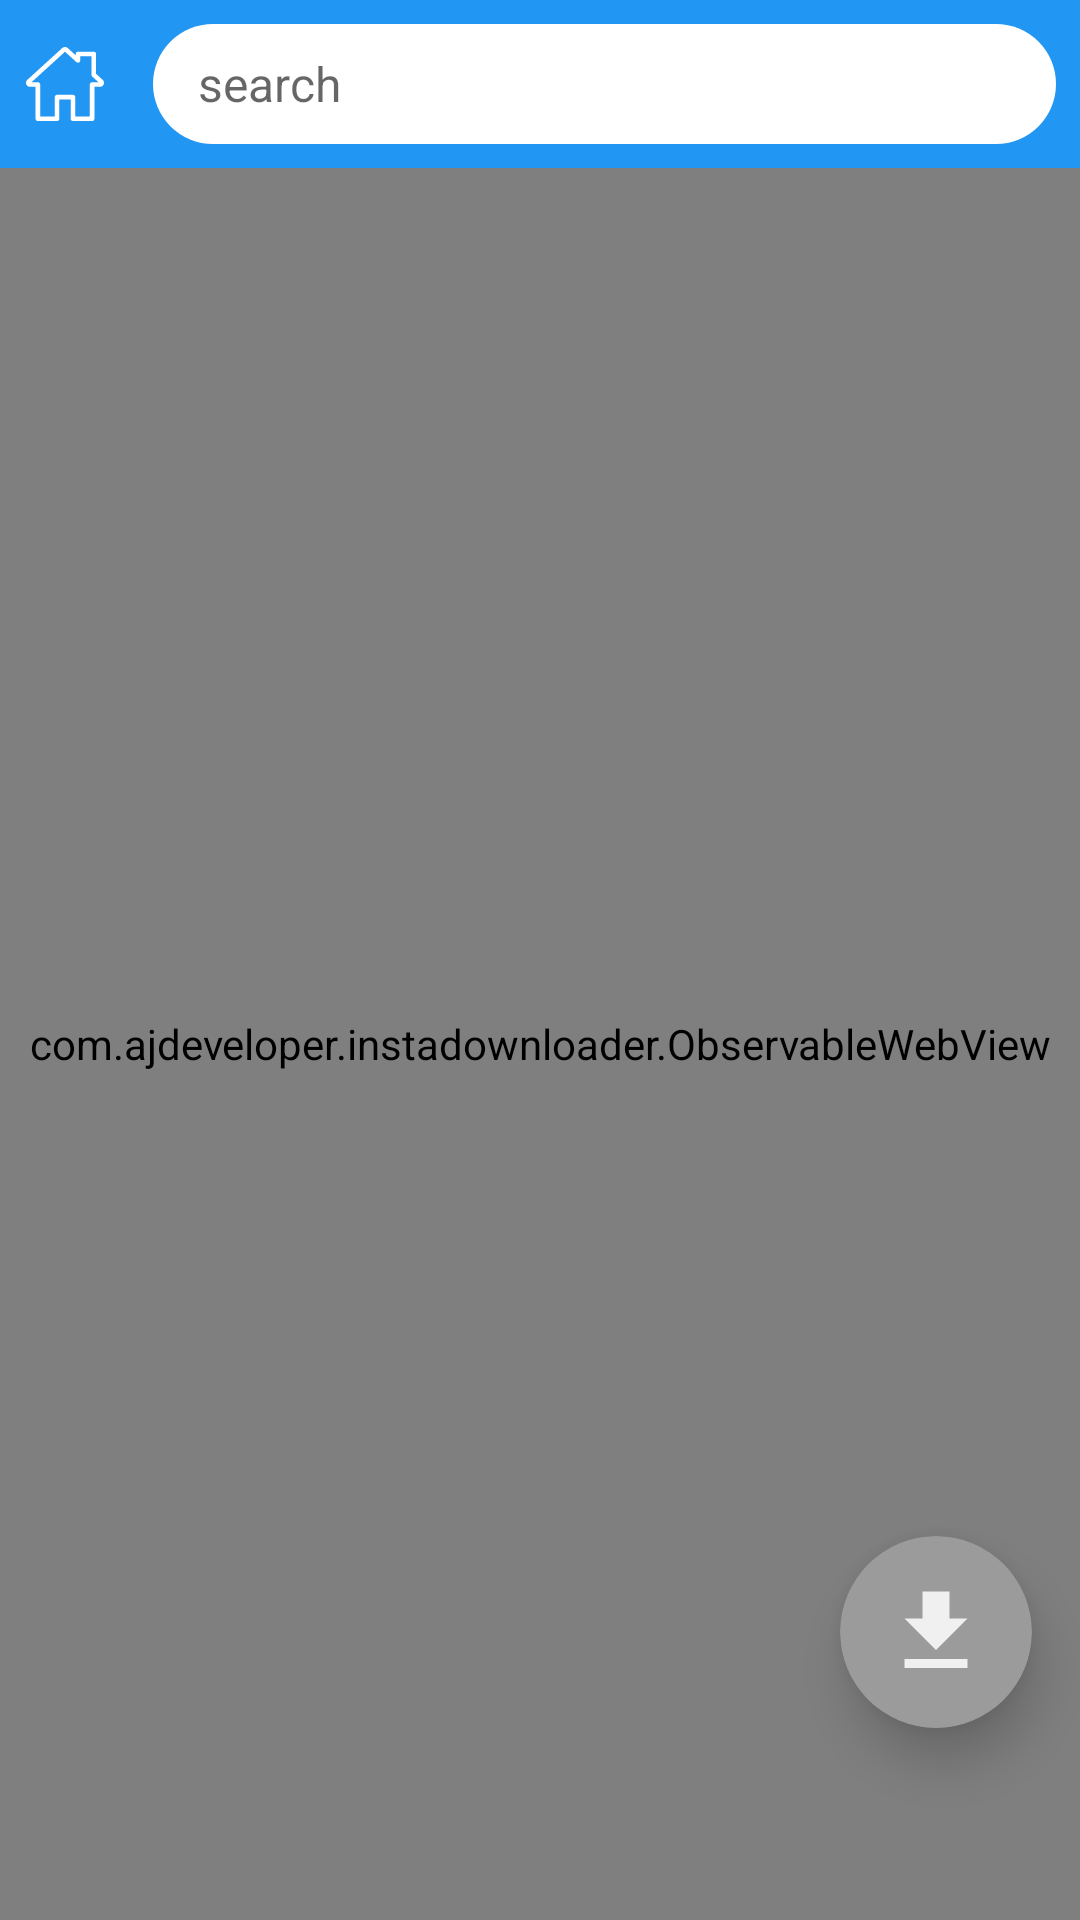

Screen size 1080px×1920px. Icon name, then its center in pixels as (x=x, y=y):
home: (x=65, y=84)
